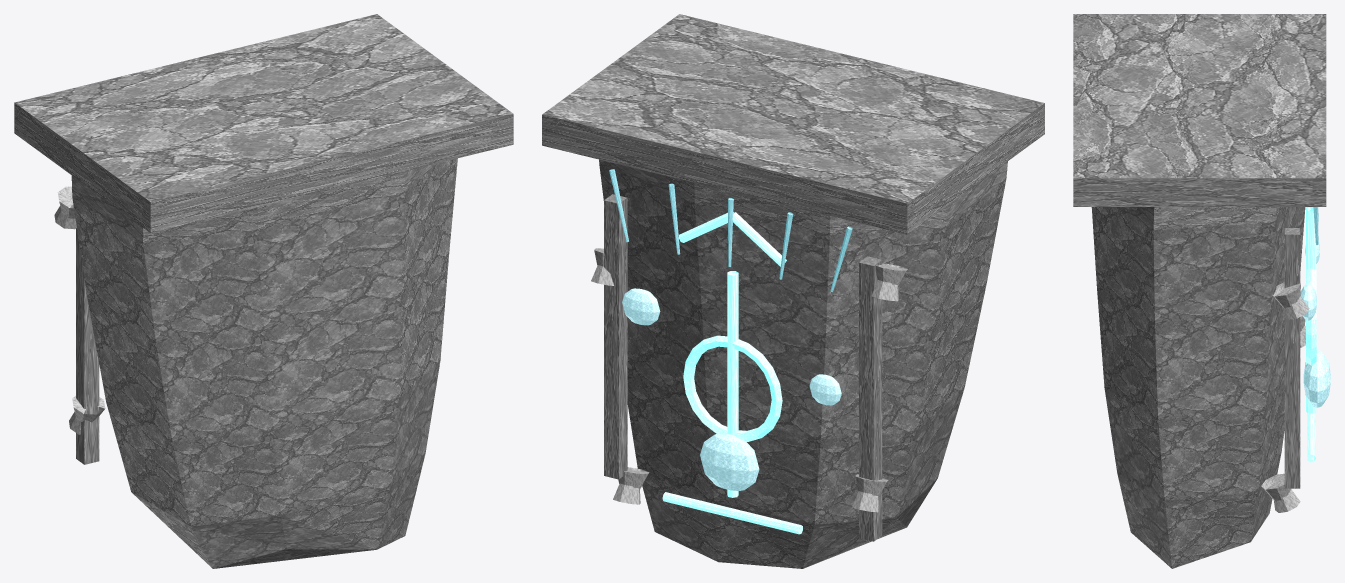
The model's file is underworld-deepstone-tide.glb.
3 renders of one model, left to right at view 1: azimuth 30°, elevation 25°; view 2: azimuth 150°, elevation 25°; view 3: azimuth 270°, elevation 25°, orthographic. The views are drawn at different scales.
Visible parts, largest first — view 1: tide-stone, tide-detail-a; view 2: tide-stone, tide-rune, tide-detail-b, tide-detail-a, tide-detail-c; view 3: tide-stone, tide-detail-a, tide-rune, tide-detail-b.
Boxes of the visible parts, x1,y1,x2,y2 form: tide-stone: (14, 14, 513, 568); tide-detail-a: (54, 186, 105, 434); tide-stone: (542, 14, 1044, 568); tide-rune: (662, 212, 802, 534); tide-detail-b: (622, 288, 841, 490); tide-detail-a: (591, 248, 907, 512); tide-detail-c: (609, 169, 852, 292); tide-stone: (1073, 14, 1326, 568); tide-detail-a: (1261, 282, 1309, 512); tide-rune: (1306, 207, 1316, 462); tide-detail-b: (1300, 241, 1330, 407).
Bounding box in the file's own units: 0.86 × 1.01 × 0.57.
5 materials, 5 textured.
